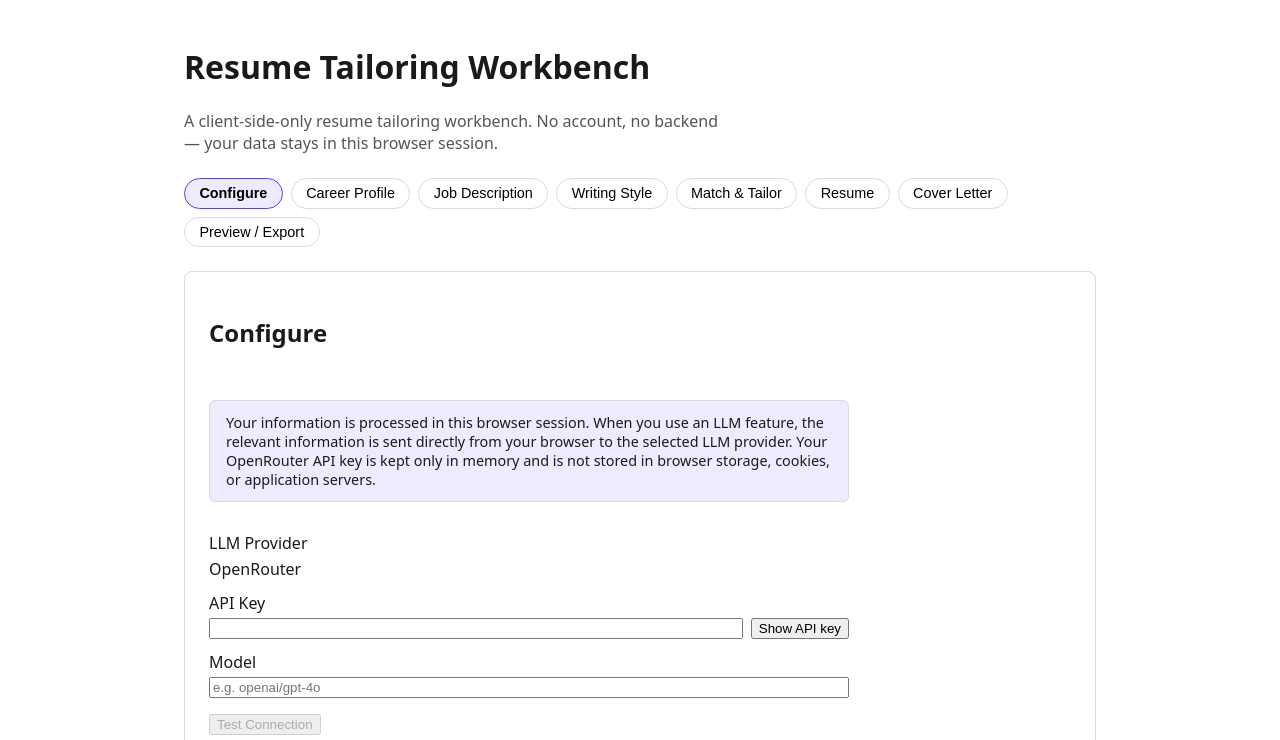
Test: Writing Style workflow (Stage 7) › allows leaving writing style blank and continuing to the next step
Click the button "Writing Style" at (612,193), box [556, 178, 668, 209]
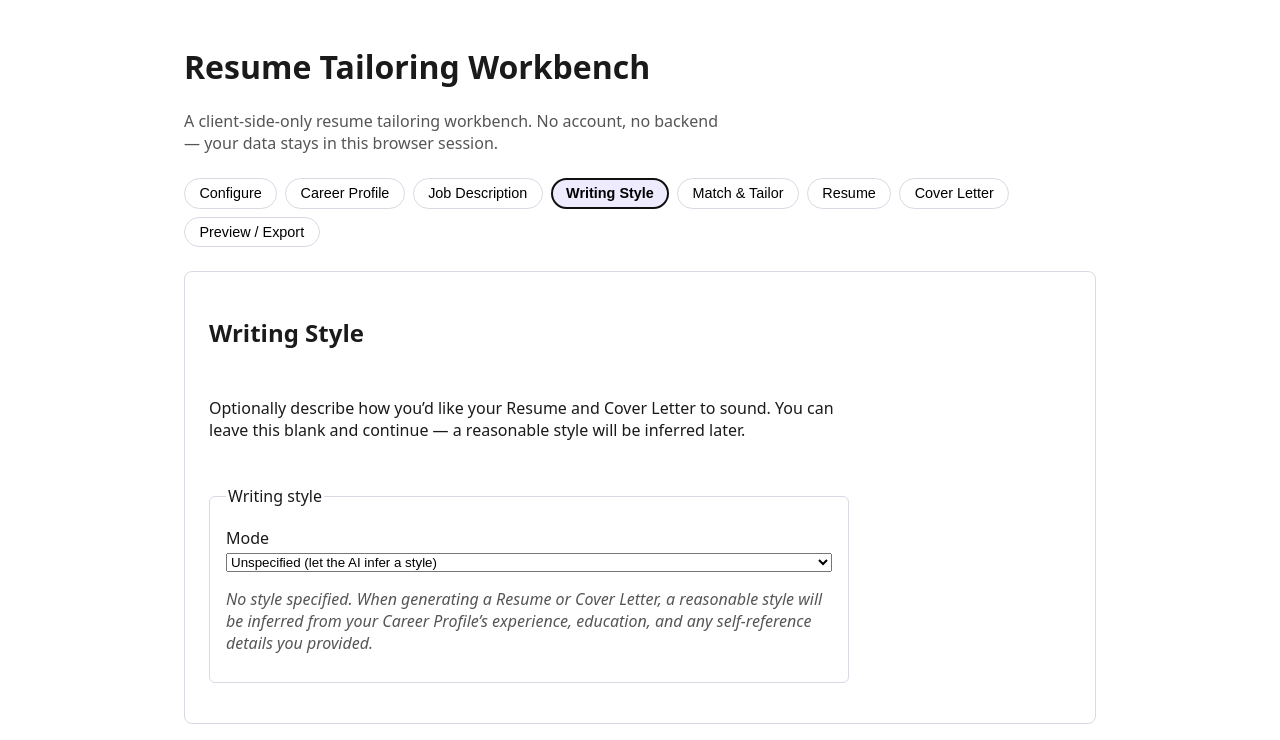
Expected: the dropdown labelled "Mode" shows "Unspecified (let the AI infer a style)", [226, 553, 832, 572]
Expected: the text "No style specified" is shown, [226, 588, 822, 654]
Click the button "Match & Tailor" at (738,193), box [677, 178, 799, 209]
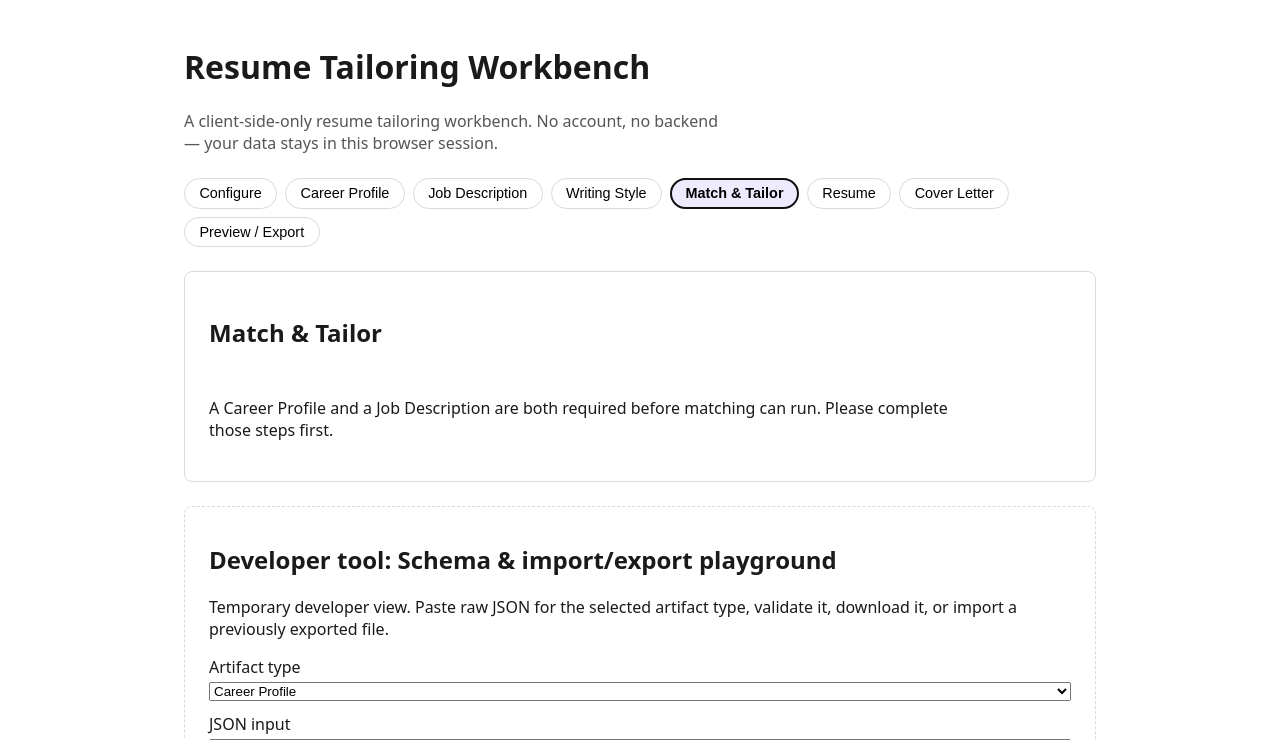
Expected: the heading "Match & Tailor" is shown, [209, 316, 382, 349]
